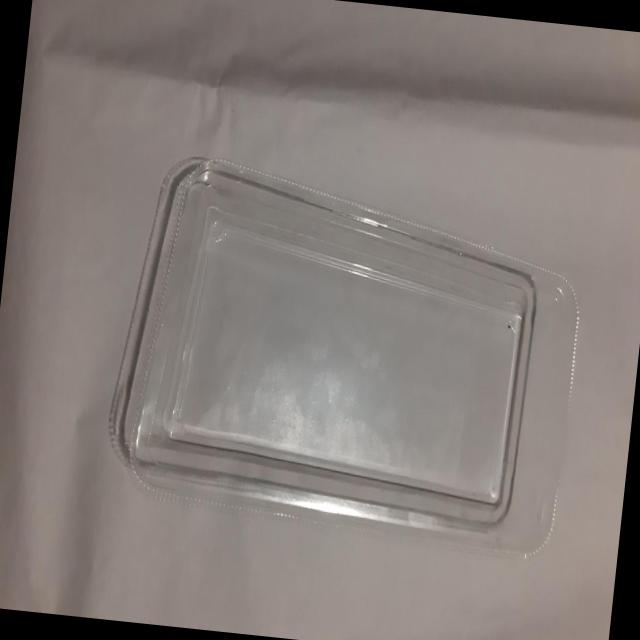KemasanPlastik: (99, 147, 586, 556)
